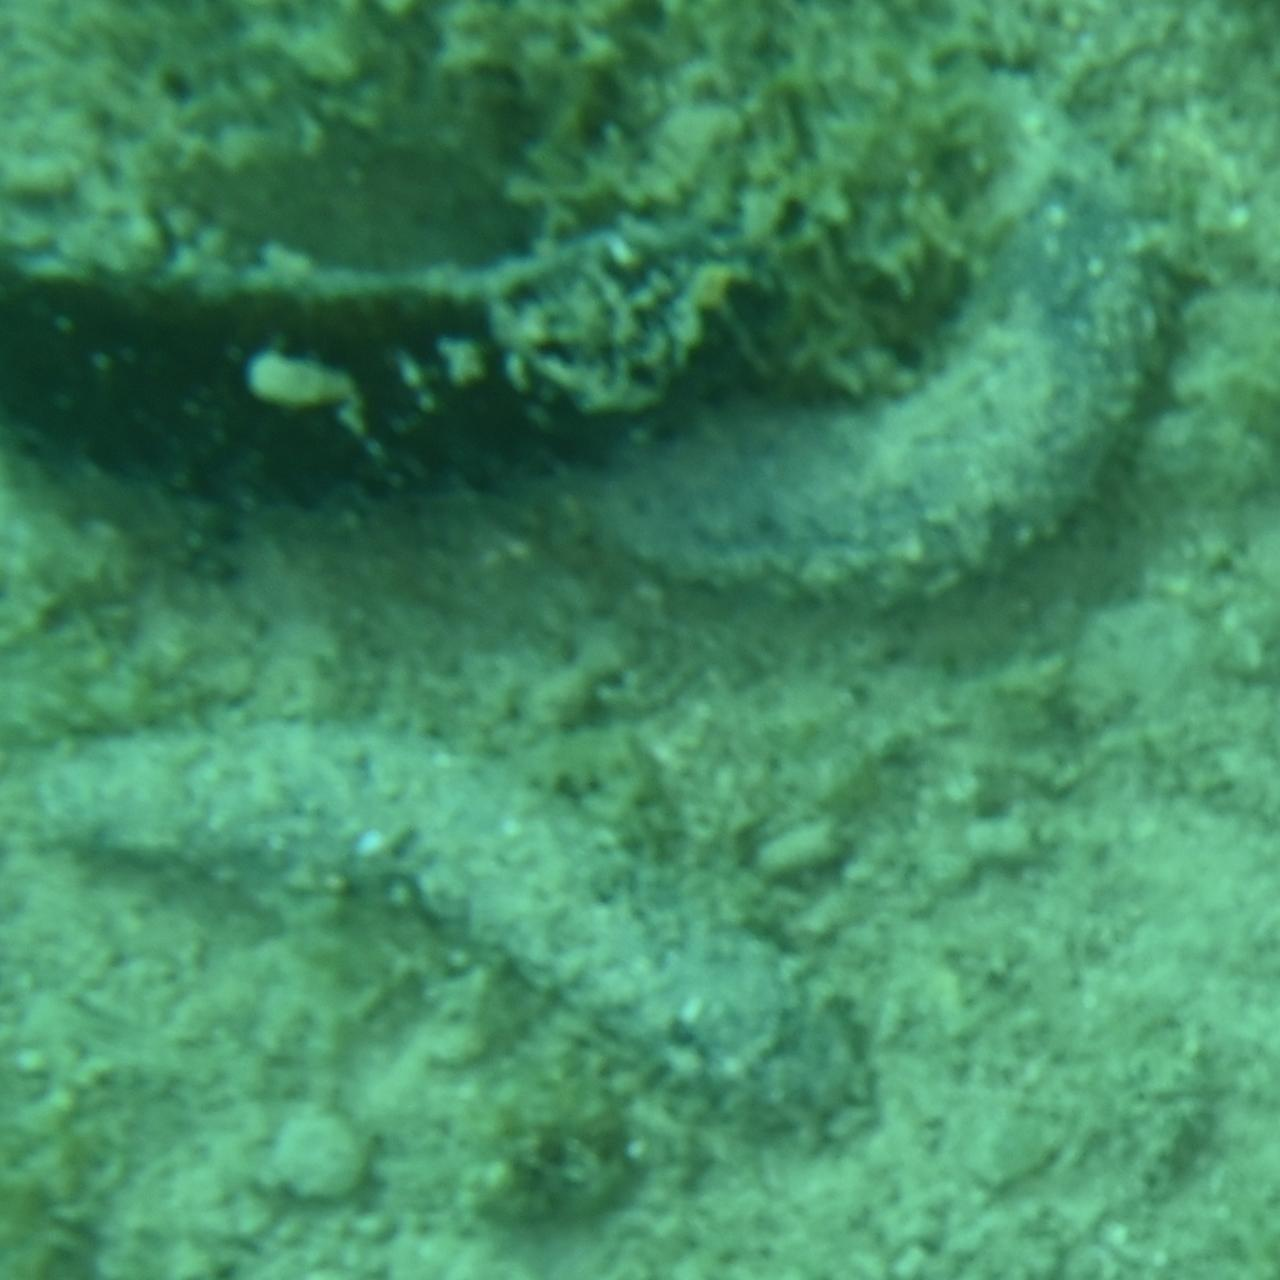Holothuria tubulosa: (5, 724, 873, 1170), (554, 57, 1183, 611), (0, 190, 935, 510)
